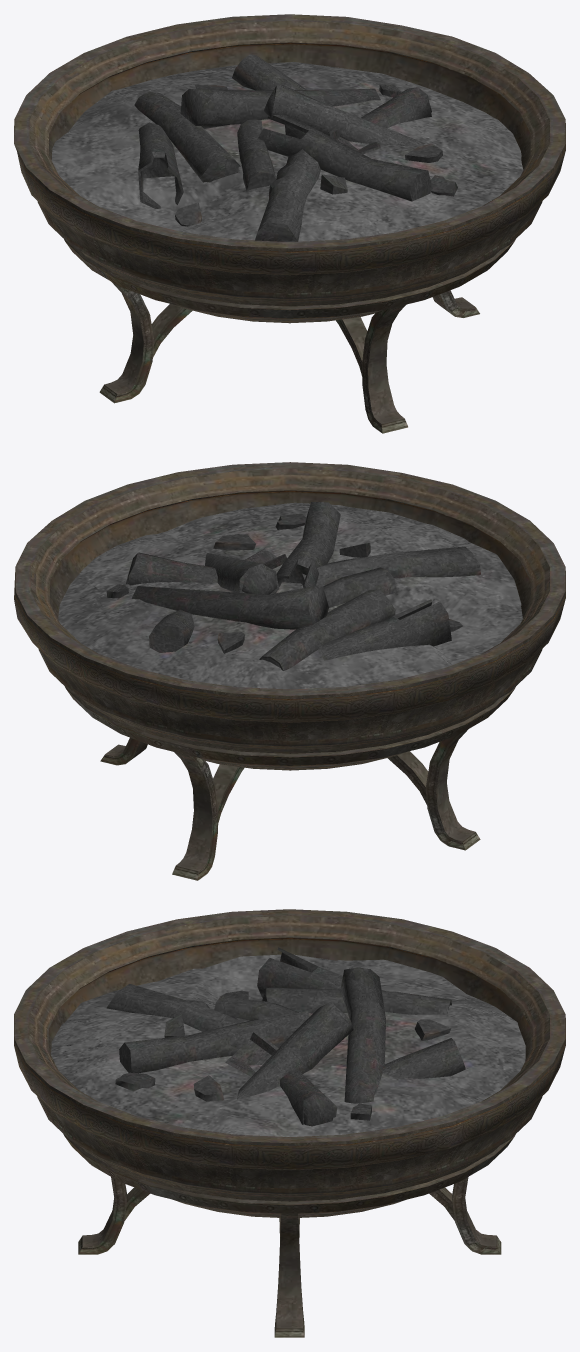
Rendered from GEN_PRO_Brasero_Large_Metal_02A_LOD0-transformed.glb.
The picture shows the model from 3 angles, top to bottom: view 1: azimuth 30°, elevation 25°; view 2: azimuth 150°, elevation 25°; view 3: azimuth 270°, elevation 25°; orthographic projection.
Visible parts, largest first — view 1: default; view 2: default; view 3: default.
Part boxes in pixels (left/top/right/bottom): default: left=14, top=14, right=565, bottom=433; default: left=14, top=462, right=565, bottom=880; default: left=14, top=909, right=565, bottom=1337.
Size of the model in its own units: 2.59 by 1.31 by 2.58.
2 materials, 2 textured.
